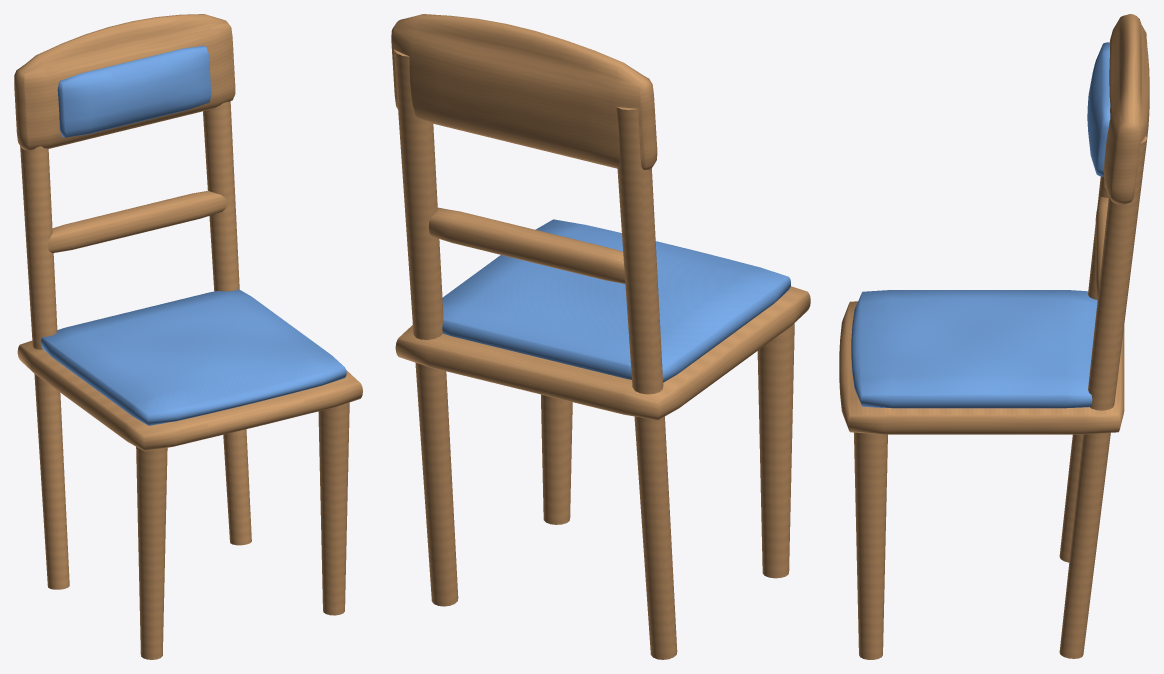
File: 卡通餐椅_天蓝.glb
The picture shows the model from 3 angles, left to right: view 1: azimuth 30°, elevation 25°; view 2: azimuth 150°, elevation 25°; view 3: azimuth 270°, elevation 25°; orthographic projection. The views are drawn at different scales.
Parts seen in each view (by area): view 1: DiningChair_天蓝_Wood, DiningChair_天蓝_Cushion; view 2: DiningChair_天蓝_Wood, DiningChair_天蓝_Cushion; view 3: DiningChair_天蓝_Wood, DiningChair_天蓝_Cushion.
Part boxes in pixels (box(x1,y1,x2,y2)): DiningChair_天蓝_Wood: box(14, 14, 362, 659); DiningChair_天蓝_Cushion: box(40, 45, 346, 425); DiningChair_天蓝_Wood: box(391, 14, 810, 659); DiningChair_天蓝_Cushion: box(442, 219, 790, 382); DiningChair_天蓝_Wood: box(839, 14, 1149, 659); DiningChair_天蓝_Cushion: box(851, 42, 1110, 408).
Size of what is drawn, in the model's own units: 0.42 by 0.9269 by 0.4659.
2 materials, 2 textured.
